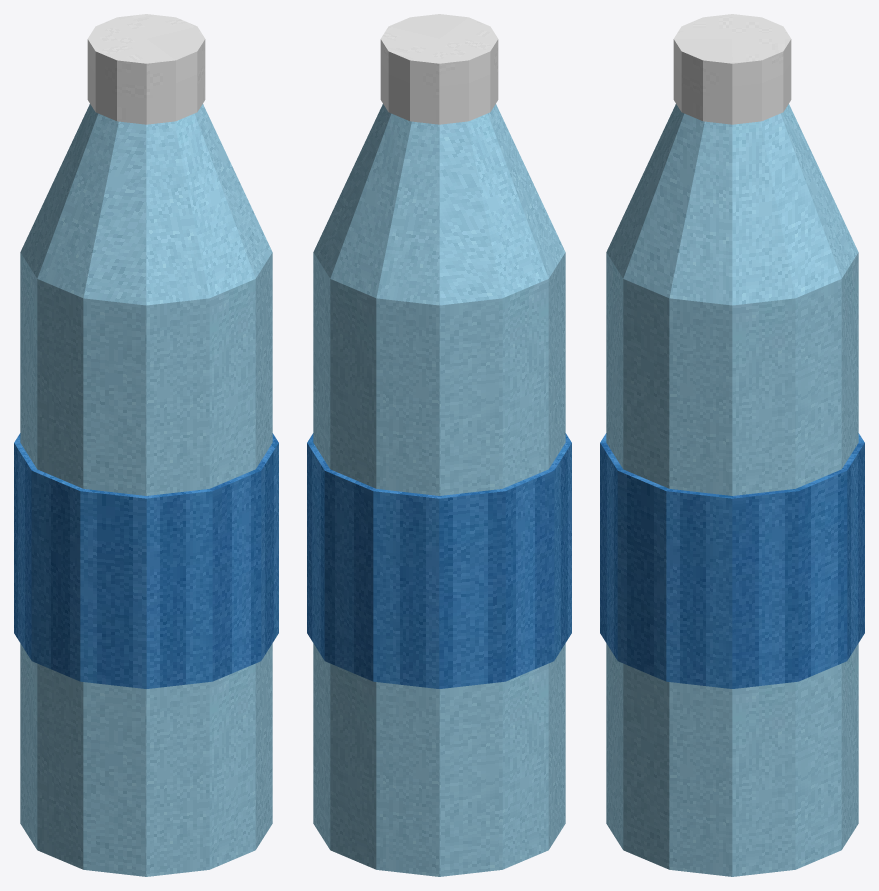
3 renders of one model, left to right at view 1: azimuth 30°, elevation 25°; view 2: azimuth 150°, elevation 25°; view 3: azimuth 270°, elevation 25°, orthographic.
Visible parts, largest first — view 1: water_bottle; view 2: water_bottle; view 3: water_bottle.
Boxes of the visible parts, left/top/right/bottom form: water_bottle: left=14, top=14, right=278, bottom=876; water_bottle: left=307, top=14, right=571, bottom=876; water_bottle: left=600, top=14, right=864, bottom=876.
Bounding box in the file's own units: 0.063 × 0.206 × 0.063.
Materials: 3 (3 with a texture image).
